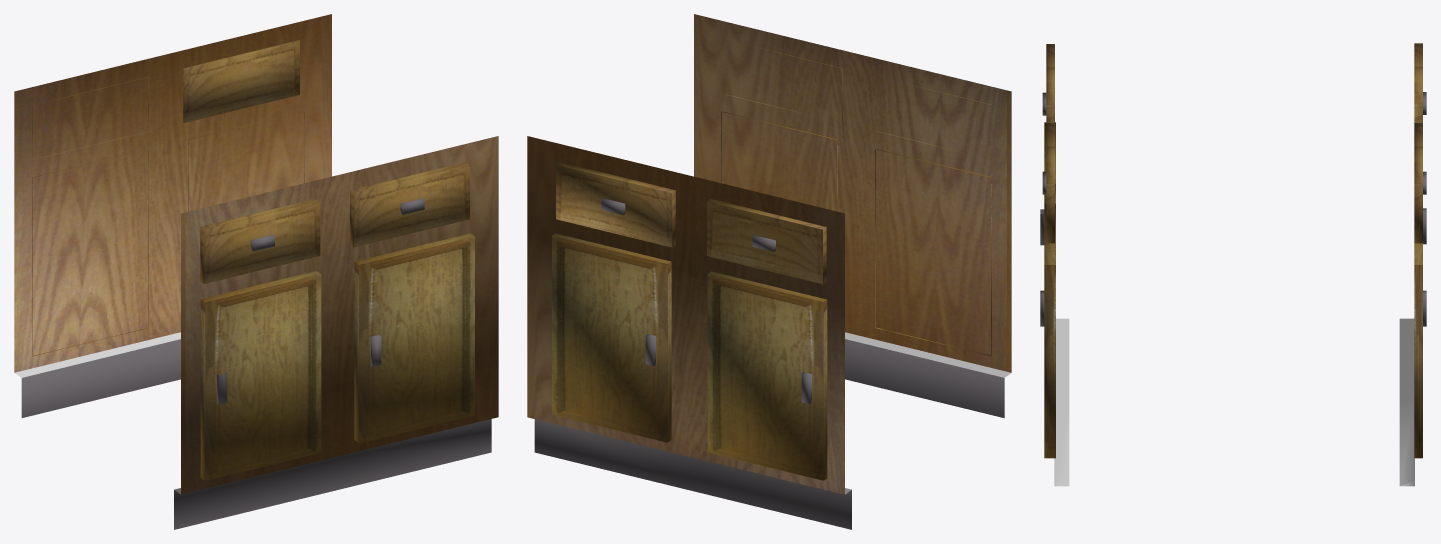
The model's file is cabinets_midpiece.fbx.
The picture shows the model from 3 angles, left to right: view 1: azimuth 30°, elevation 25°; view 2: azimuth 150°, elevation 25°; view 3: azimuth 270°, elevation 25°; orthographic projection. The views are drawn at different scales.
Parts seen in each view (by area): view 1: Cube; view 2: Cube; view 3: Cube.
Boxes of the visible parts, x1,y1,x2,y2 form: Cube: (14, 14, 498, 529); Cube: (527, 14, 1011, 529); Cube: (1040, 43, 1426, 486).
Bounding box in the file's own units: 12.87 × 12.46 × 12.54.
